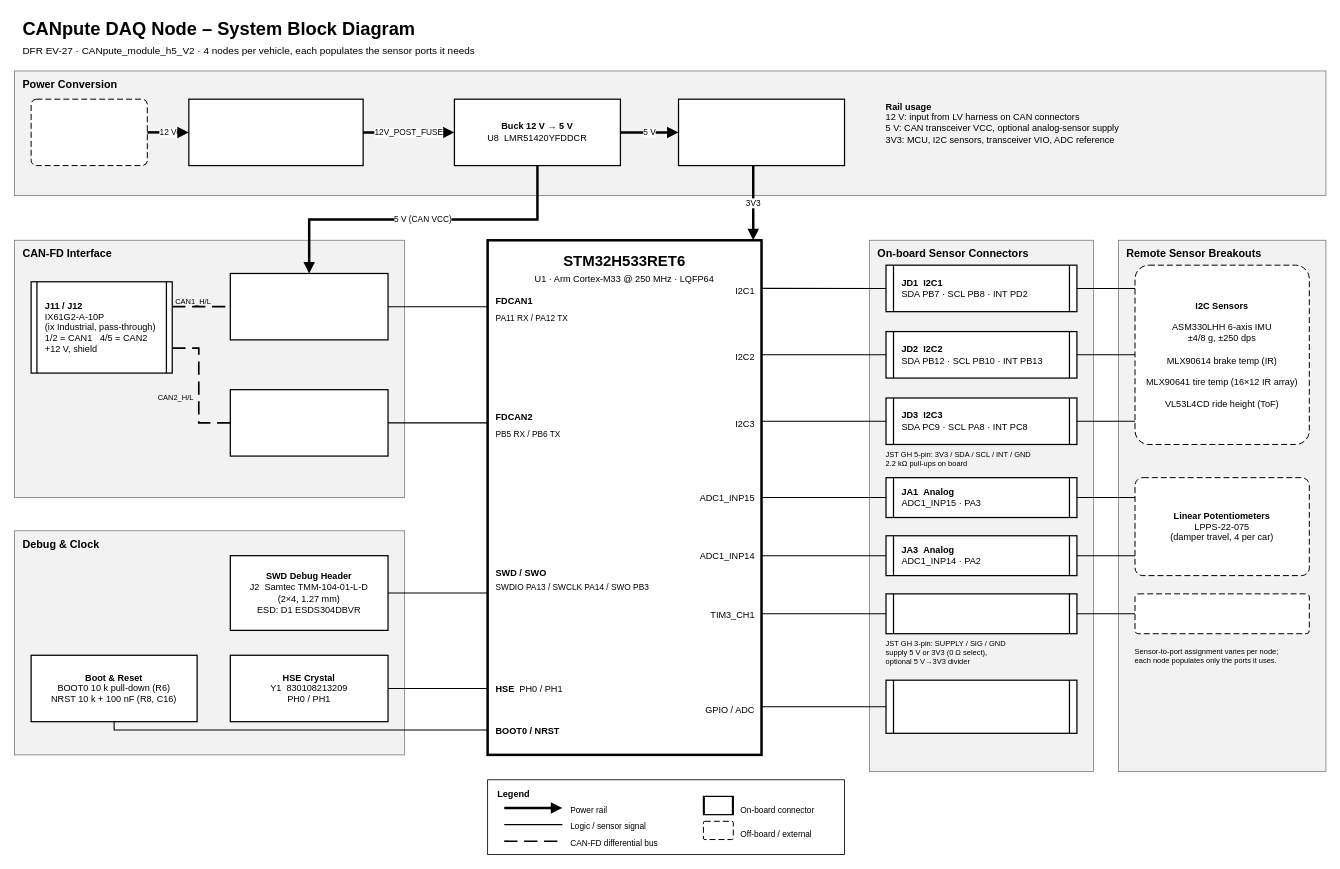
This 1340x869 diagram has some shape labels left out. Each missing label, with the centre of its shape:
CAN1 Transceiver IC4 TJA1462ATK 100 Ω term. R9: point (308, 306)
CAN2 Transceiver IC3 TJA1462ATK 100 Ω term. R4: point (308, 422)
eFuse / Reverse Protection U2 LM73100RPWR alt. footprint IC1 STEF12SAGR: point (275, 132)
J9 Aux / Expansion GPIO1-3: PC5, PC4, PA7 ADC1_INP0/1: PA0, PA1: point (981, 706)
JA2 Pulse Input TIM3_CH1 · PA6: point (981, 613)
LDO 5 V → 3.3 V U3 LD39200PU33R: point (761, 132)
LV Battery 12 V via J11 / J12 harness: point (88, 132)
Wheel Speed Sensors A44 (4 per car): point (1221, 613)
